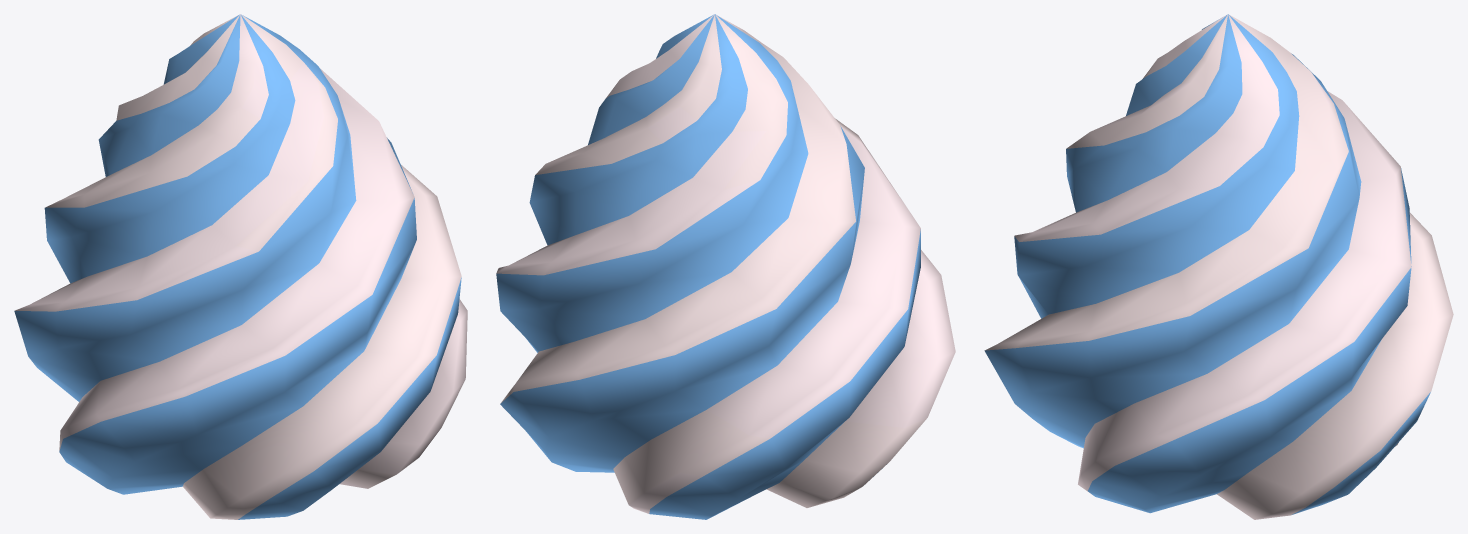
The model's file is Ice Cream Spiral C White Blue.fbx.
The picture shows the model from 3 angles, left to right: view 1: azimuth 30°, elevation 25°; view 2: azimuth 150°, elevation 25°; view 3: azimuth 270°, elevation 25°; orthographic projection.
Visible parts, largest first — view 1: Ice Cream Spiral C White Blue; view 2: Ice Cream Spiral C White Blue; view 3: Ice Cream Spiral C White Blue.
Part boxes in pixels (x1=…): Ice Cream Spiral C White Blue: x1=14, y1=14, x2=467, y2=519; Ice Cream Spiral C White Blue: x1=496, y1=14, x2=955, y2=519; Ice Cream Spiral C White Blue: x1=984, y1=14, x2=1453, y2=519.
Size of the model in its own units: 0.4215 by 0.4617 by 0.4308.
